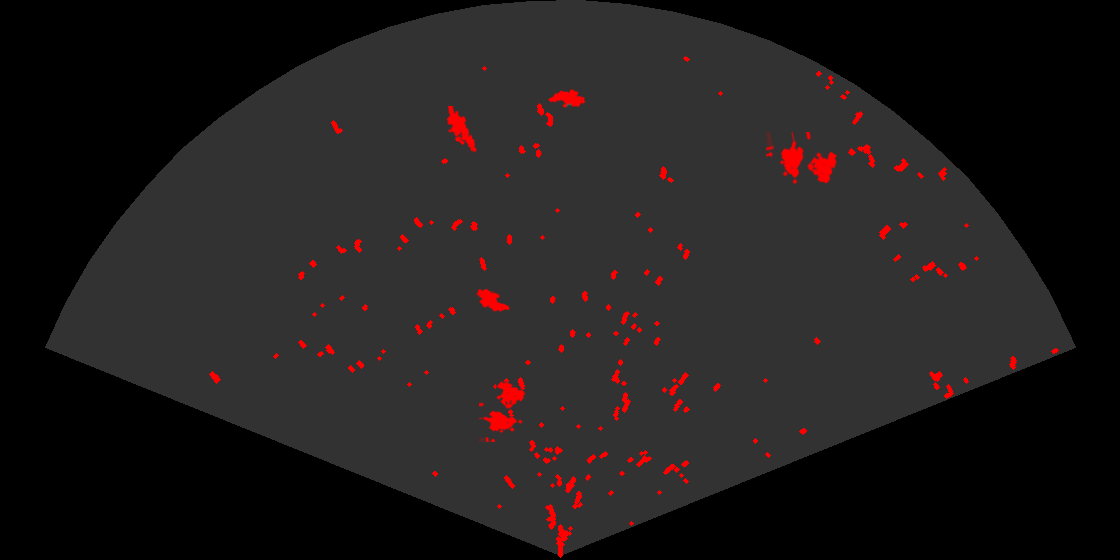AUV: (475, 287, 512, 313), (546, 87, 587, 109)
cage: (766, 132, 839, 186), (479, 380, 527, 442)
frogman: (445, 106, 478, 155)
